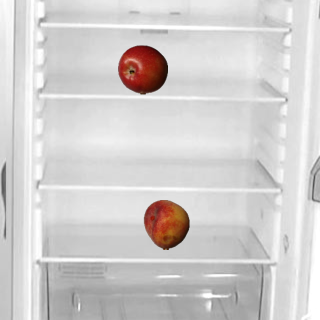Apple Braeburn: (117, 44, 167, 94)
Peach: (141, 199, 191, 249)
